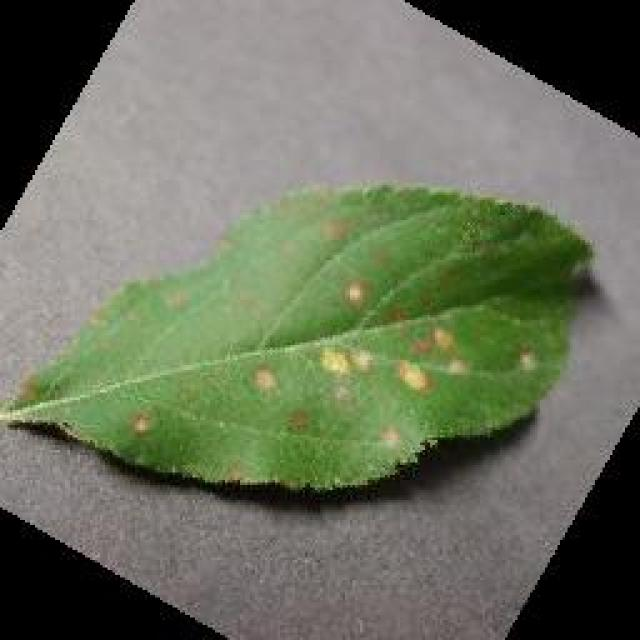apple cedar apple rust: (0, 178, 598, 492)
